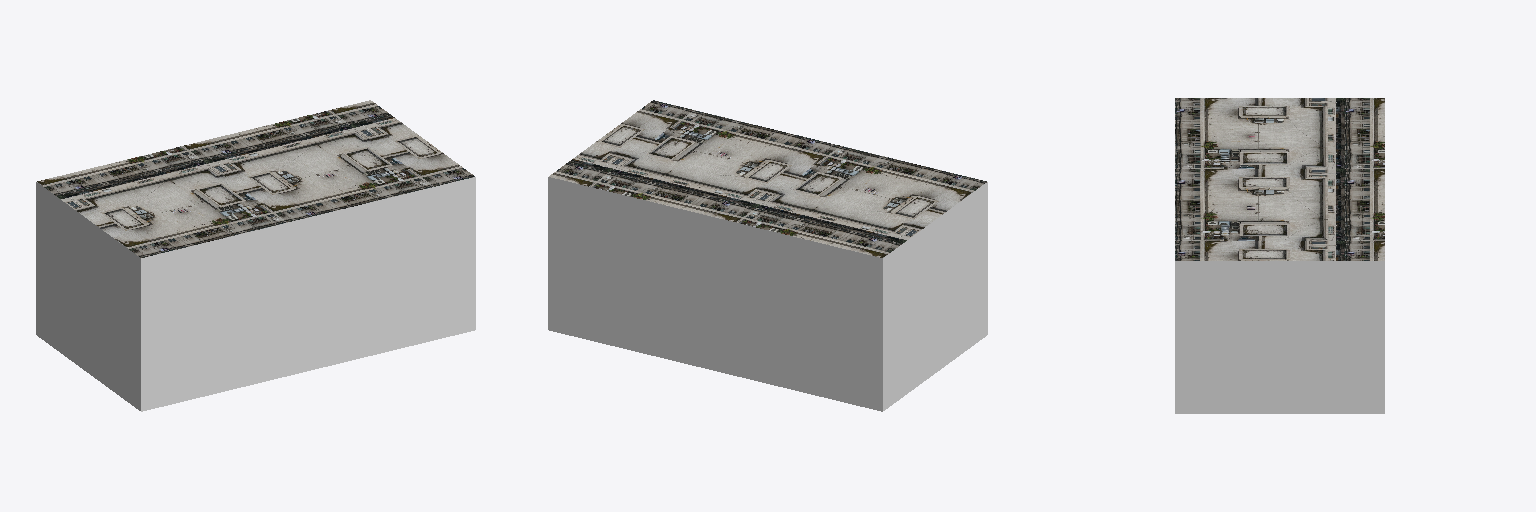
The picture shows the model from 3 angles: view 1: azimuth 30°, elevation 25°; view 2: azimuth 150°, elevation 25°; view 3: azimuth 270°, elevation 25°; orthographic projection.
Visible parts, largest first — view 1: Building_54.[number redacted]_29.[number redacted]; view 2: Building_54.[number redacted]_29.[number redacted]; view 3: Building_54.[number redacted]_29.[number redacted].
Part boxes in pixels (left/top/right/bottom): Building_54.[number redacted]_29.[number redacted]: left=36, top=100, right=475, bottom=411; Building_54.[number redacted]_29.[number redacted]: left=548, top=100, right=987, bottom=411; Building_54.[number redacted]_29.[number redacted]: left=1175, top=98, right=1384, bottom=413.
Size of the model in its own units: 54.7 by 24 by 29.69.
2 materials, 1 textured.